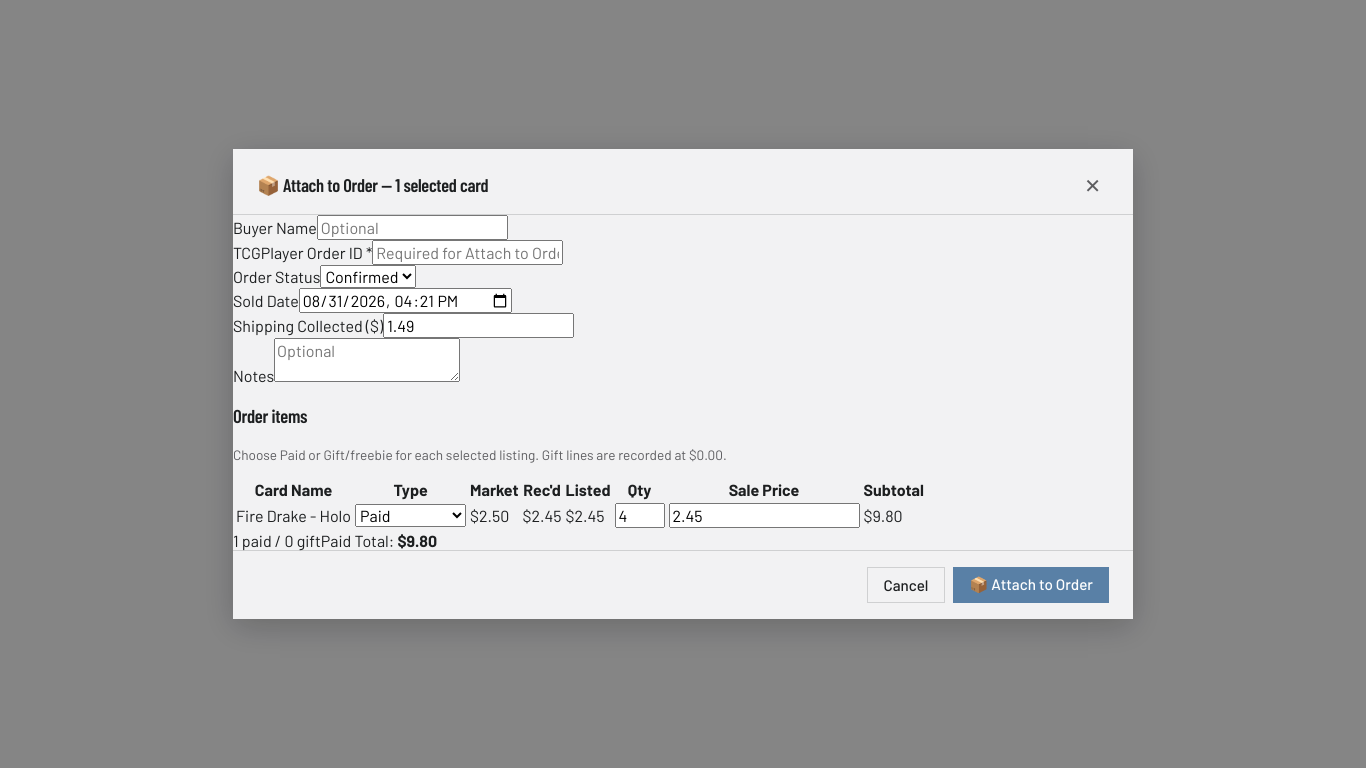
BulkSellModal › validates shipping collected as non-negative dollars
In the field labelled "TCGPlayer Order ID *": x=468, y=253 [372,240,563,266], type "ORD-99"
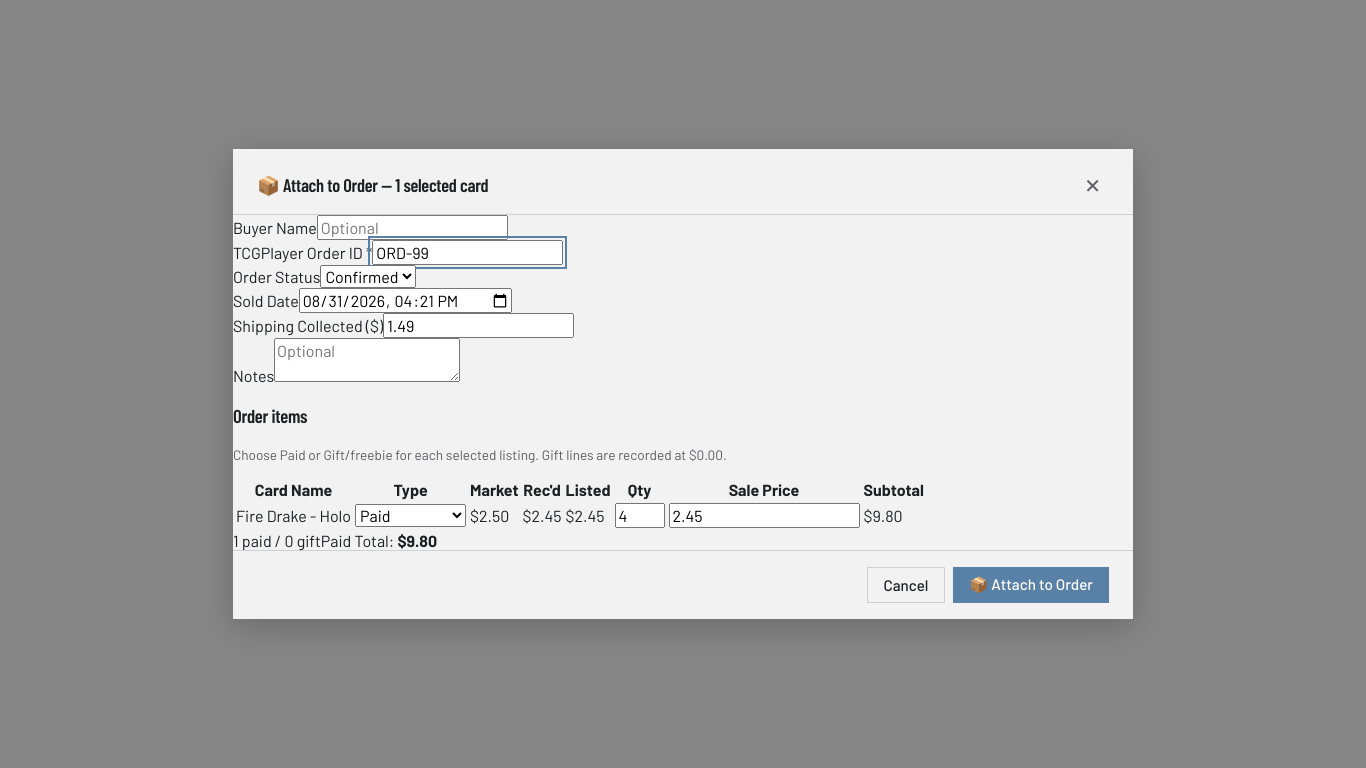
Replace the text in the number field labelled "Shipping Collected ($)" with "-1": x=479, y=326 [383,314,574,338]
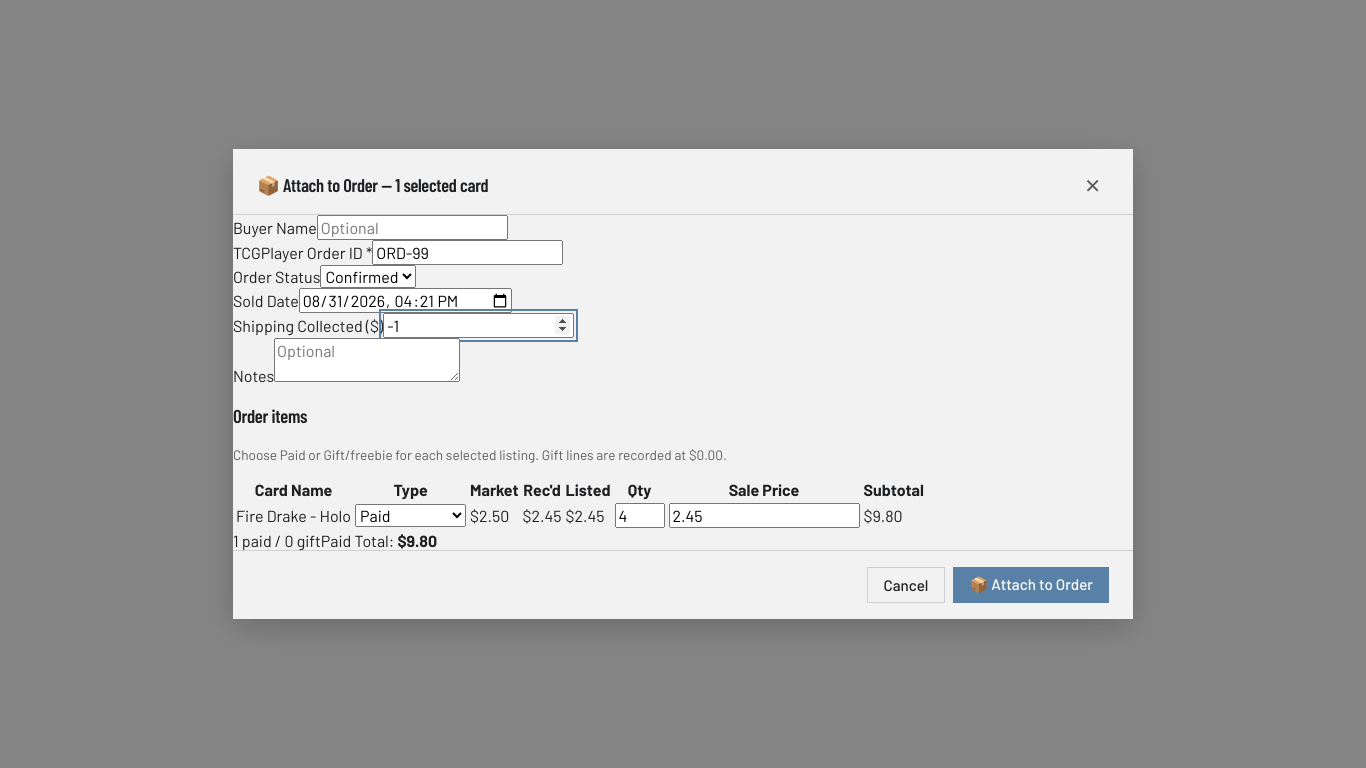
Click the button "📦 Attach to Order": x=1031, y=584 [953,566,1109,602]
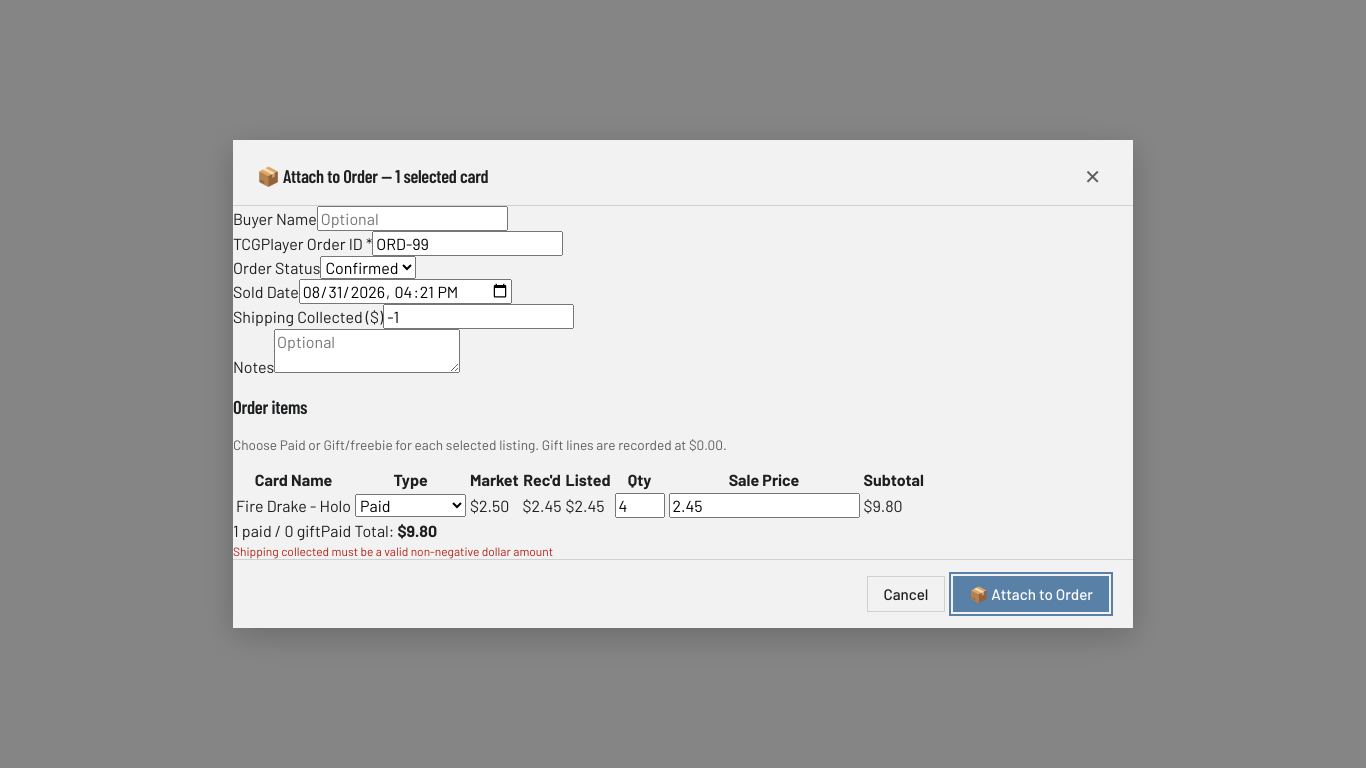
Check: the message shows "Shipping collected", box [233,544,553,558]
